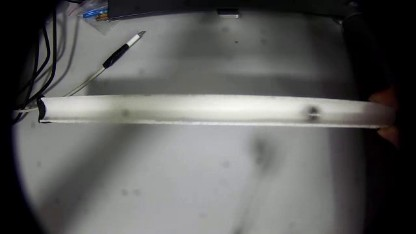gangzhu: (303, 104, 318, 121)
